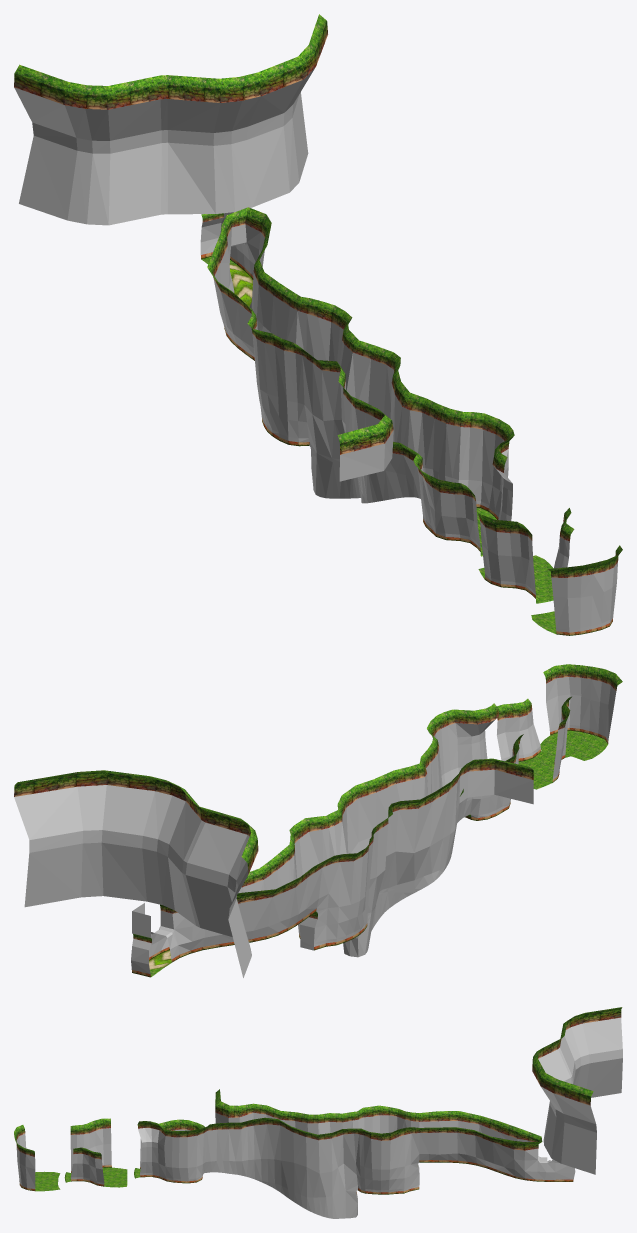
File: Seagate2.obj
3 views of the same model, one above another, from view 1: azimuth 30°, elevation 25°; view 2: azimuth 150°, elevation 25°; view 3: azimuth 270°, elevation 25° (orthographic). The views are drawn at different scales.
Visible parts, largest first — view 1: obj1, obj2; view 2: obj1; view 3: obj1.
Boxes of the visible parts, x1,y1,x2,y2 form: obj1: (14, 14, 622, 635); obj2: (229, 264, 496, 556); obj1: (14, 664, 622, 977); obj1: (14, 1007, 622, 1218).
Bounding box in the file's own units: 1359 × 1298 × 3961.
